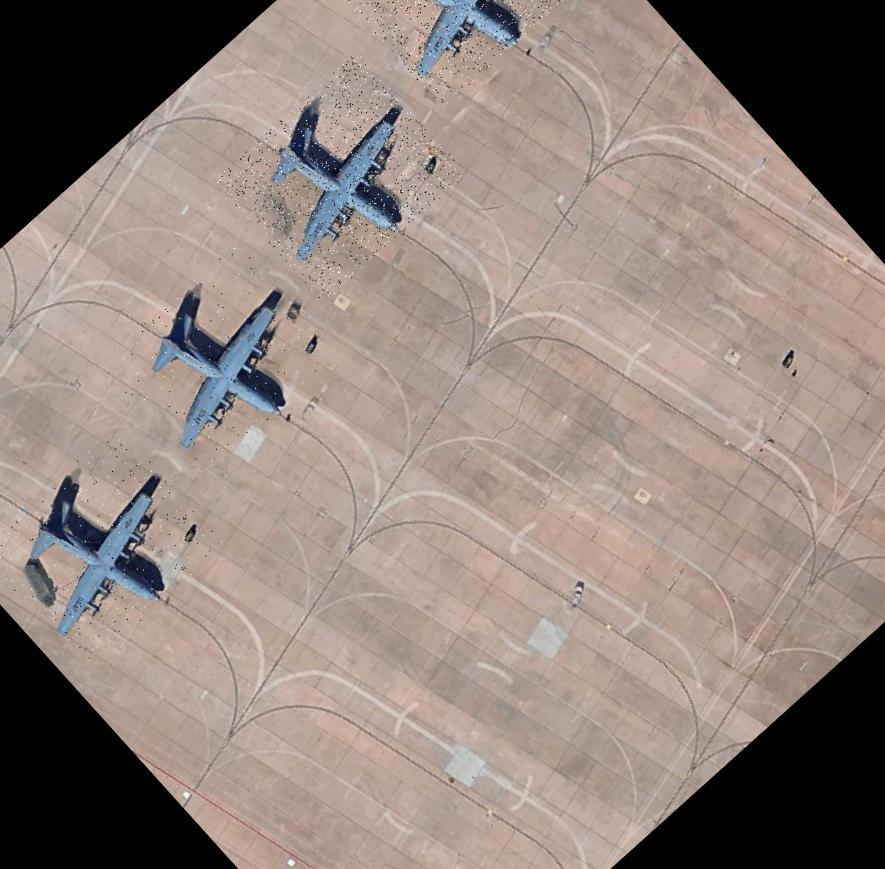A2: (213, 51, 467, 303), (97, 240, 340, 480), (0, 424, 224, 670), (340, 0, 586, 108)
